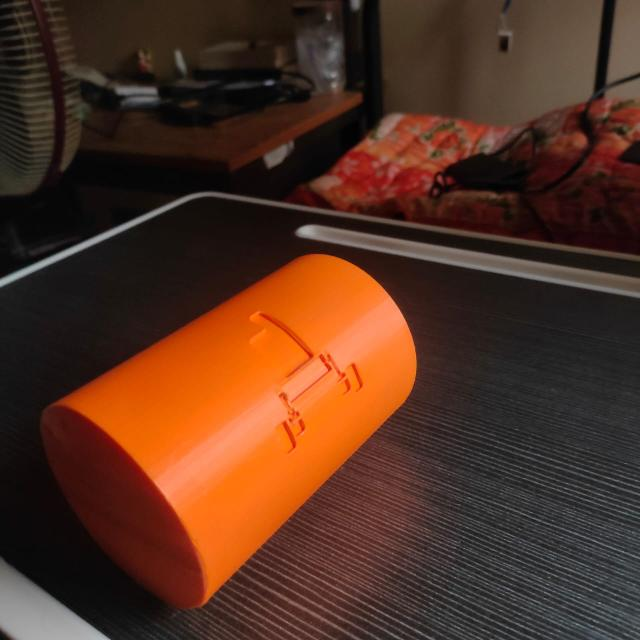Cylinder: (39, 251, 418, 610)
